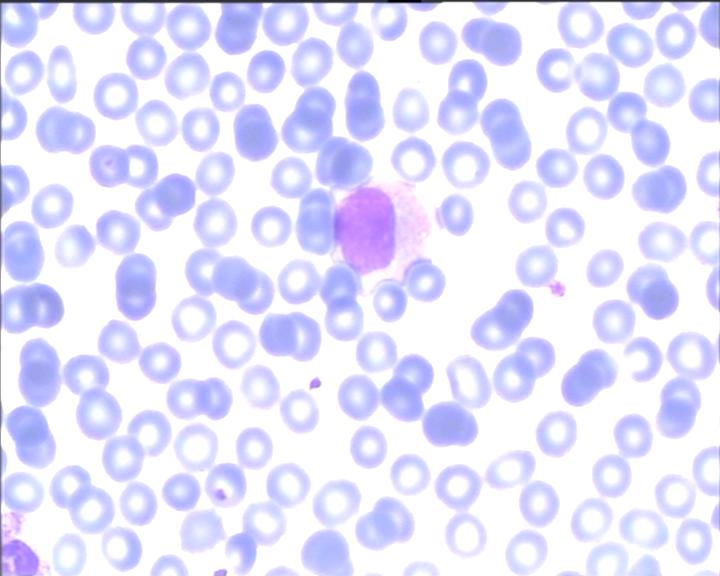mono: (325, 178, 433, 296)
